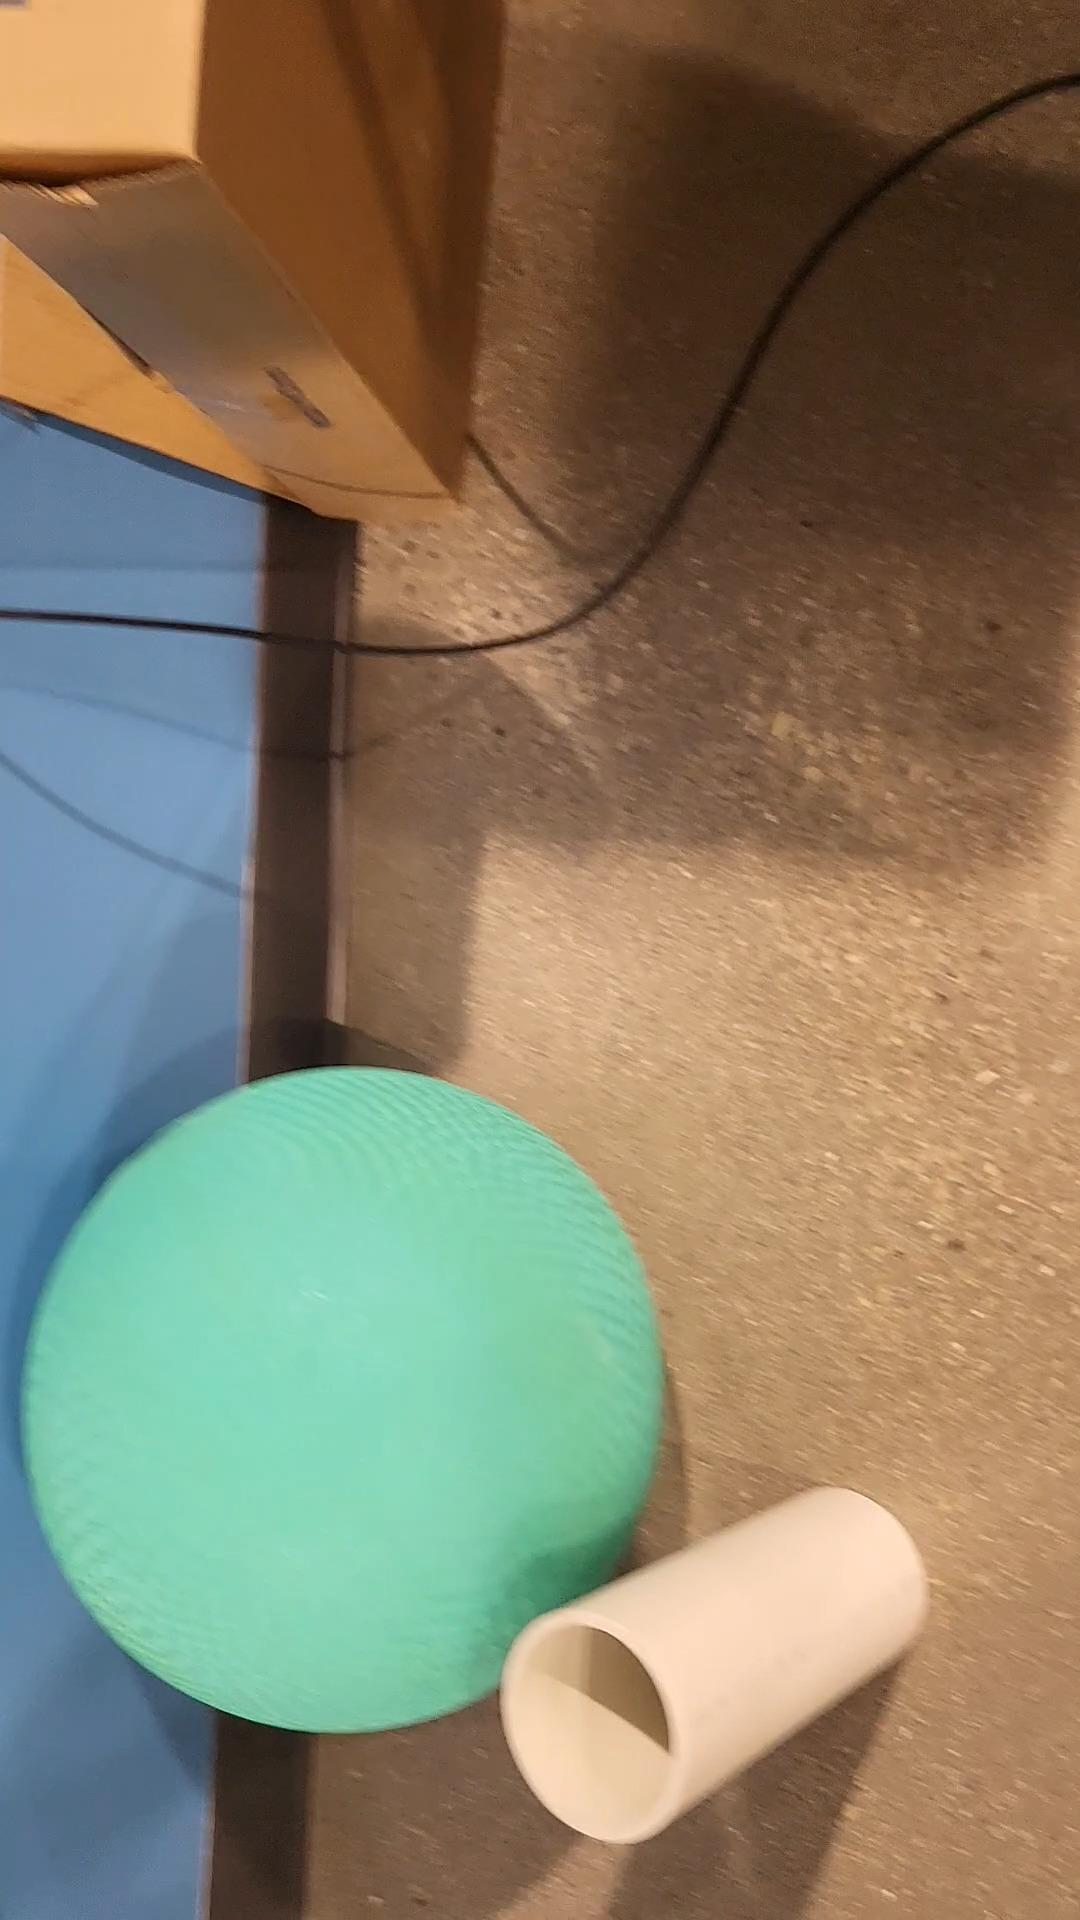algae: (22, 1071, 663, 1733)
coral: (498, 1482, 927, 1841)
